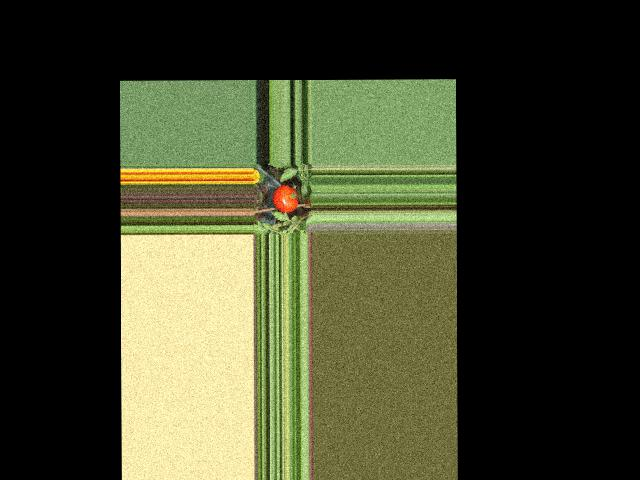tomato: (272, 185, 298, 213)
